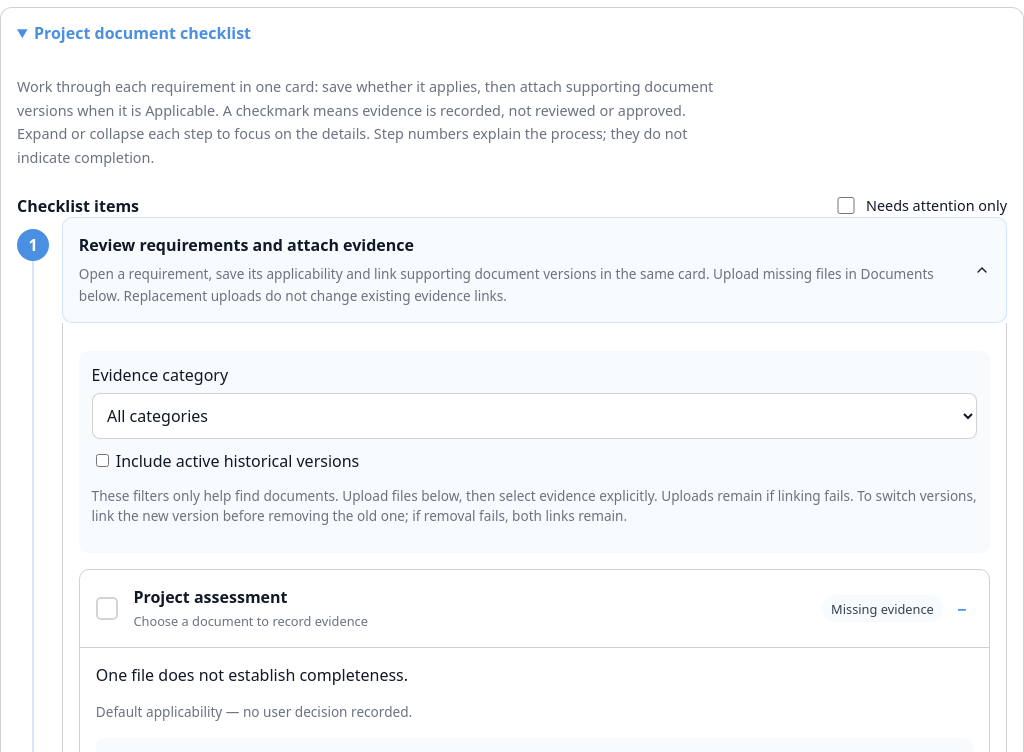
attention filter hides recorded and not-applicable items without changing saved decisions
Click the checkbox labelled "Needs attention only": (846, 206) [837,197,855,214]
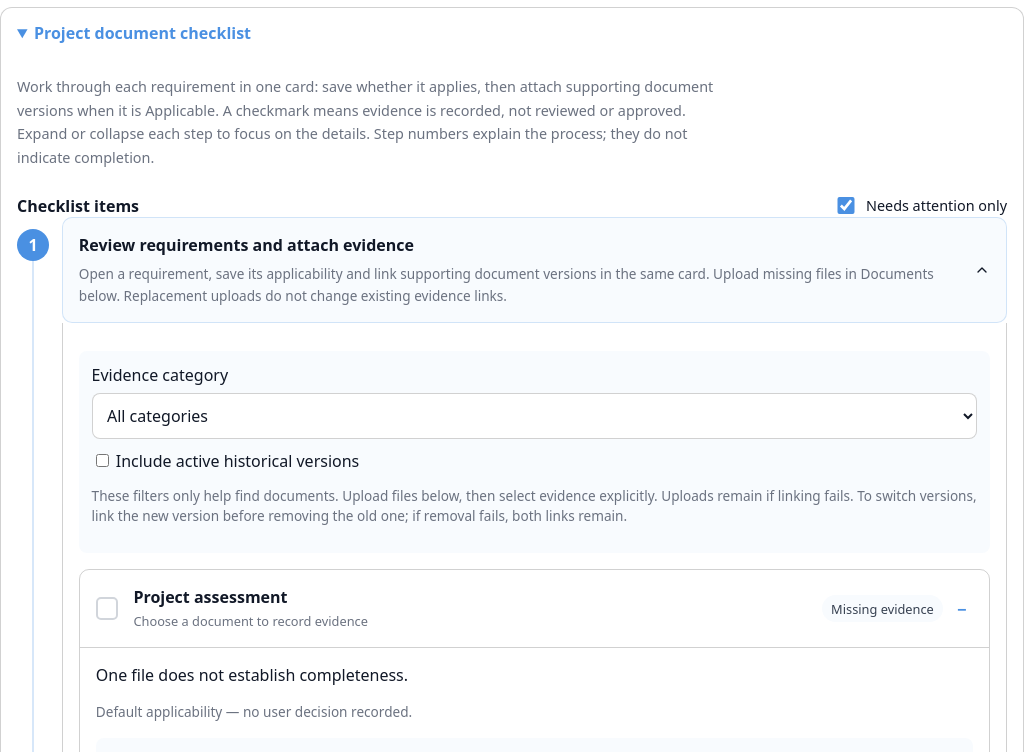
Expected: the text "Recorded item" is not shown
Expected: the text "Exempt item" is not shown
Click the checkbox labelled "Needs attention only": (846, 206) [837,197,855,214]
(page scrolled)
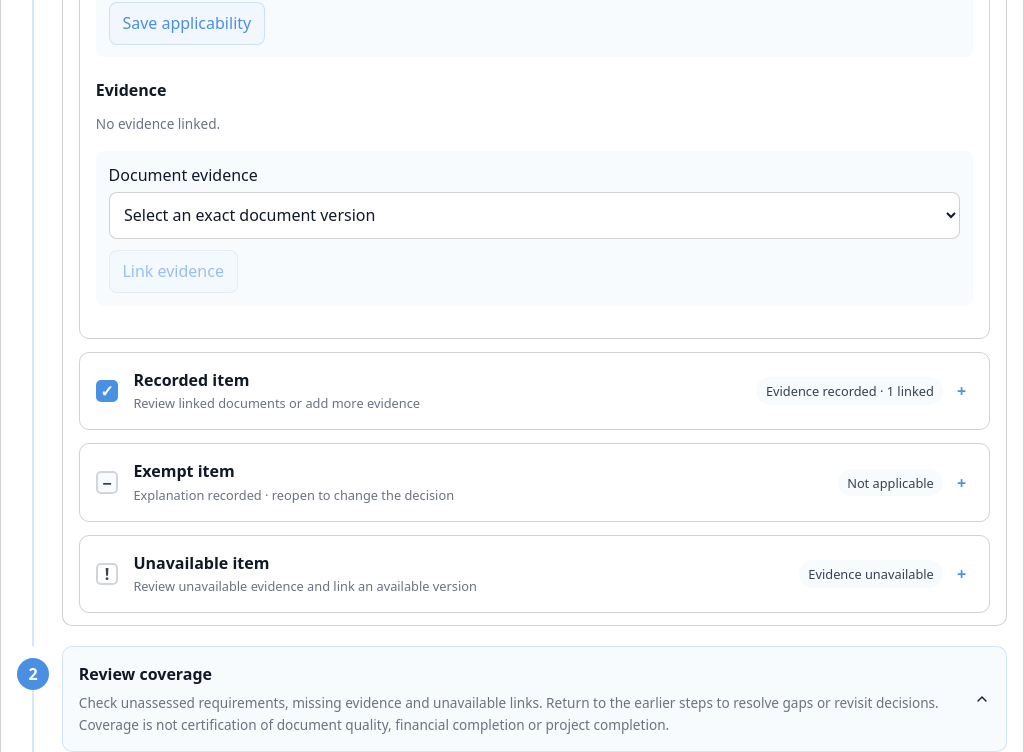
Expected: the text "Recorded item" is shown, [133,369,249,391]
